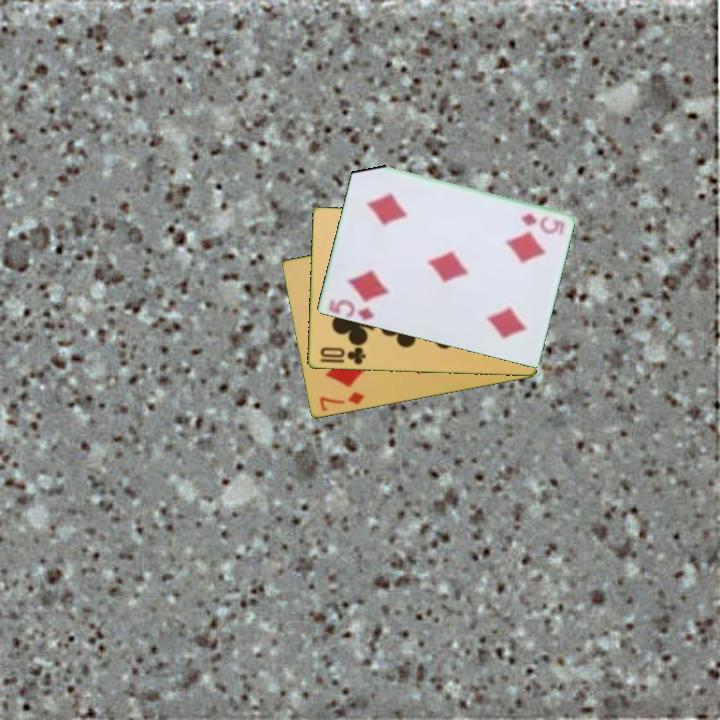10c: (316, 344, 368, 368)
5d: (327, 296, 378, 323), (517, 209, 567, 235)
7d: (315, 388, 367, 414)
